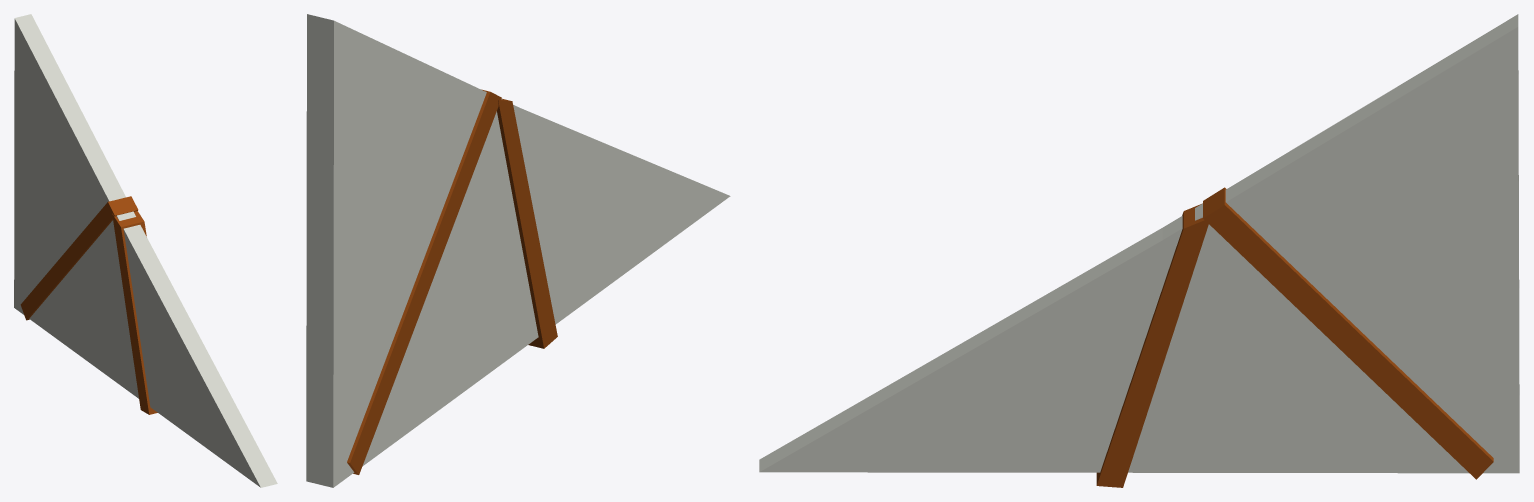
The model's file is HalfRoofWall.fbx.
3 views of the same model, side by side, from view 1: azimuth 30°, elevation 25°; view 2: azimuth 150°, elevation 25°; view 3: azimuth 270°, elevation 25° (orthographic). The views are drawn at different scales.
Parts seen in each view (by area): view 1: HalfRoofWall; view 2: HalfRoofWall; view 3: HalfRoofWall.
Boxes of the visible parts, box(x1,y1,x2,y2) form: HalfRoofWall: box(14, 14, 277, 487); HalfRoofWall: box(306, 14, 730, 487); HalfRoofWall: box(759, 14, 1519, 487).
Bounding box in the file's own units: 106 × 1269 × 1910.
